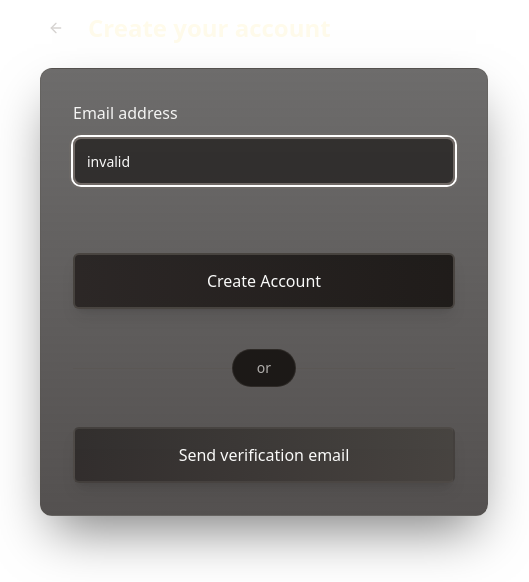
Test: SignUpEmail › email input handling › should clear errors when user starts typing
The width and height of the screenshot is (529, 582).
Note: Trigger validation first by trying to submit
Click the button "Create Account": x=264, y=281 [73,253,455,309]
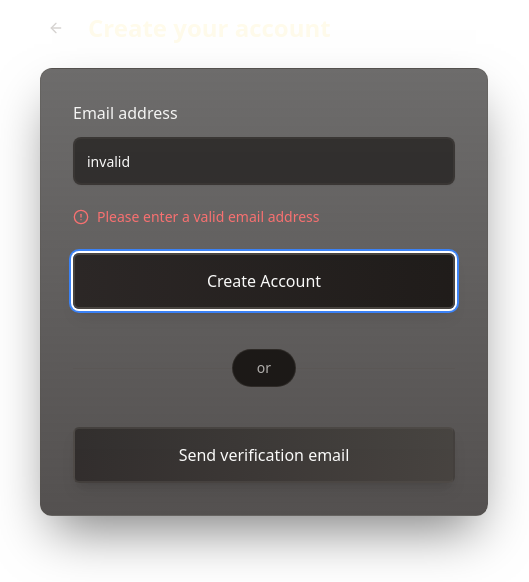
Expected: the text "Please enter a valid email address" is shown, [97,207,320,227]
Note: Start typing to clear error
In the field labelled "Email address": x=264, y=161 [73,137,455,185], type "a"
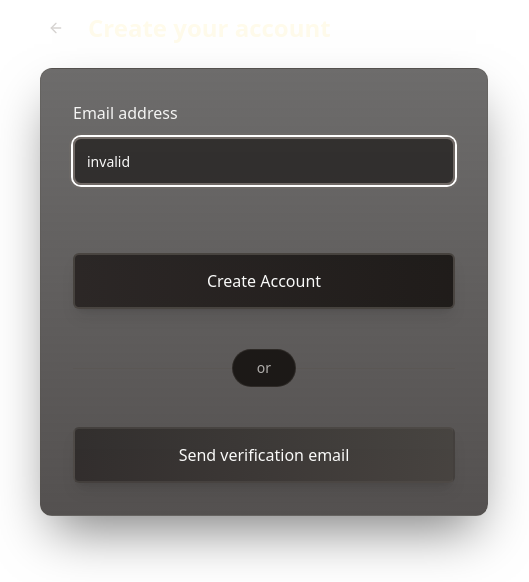
Expected: the text "Please enter a valid email address" is gone
